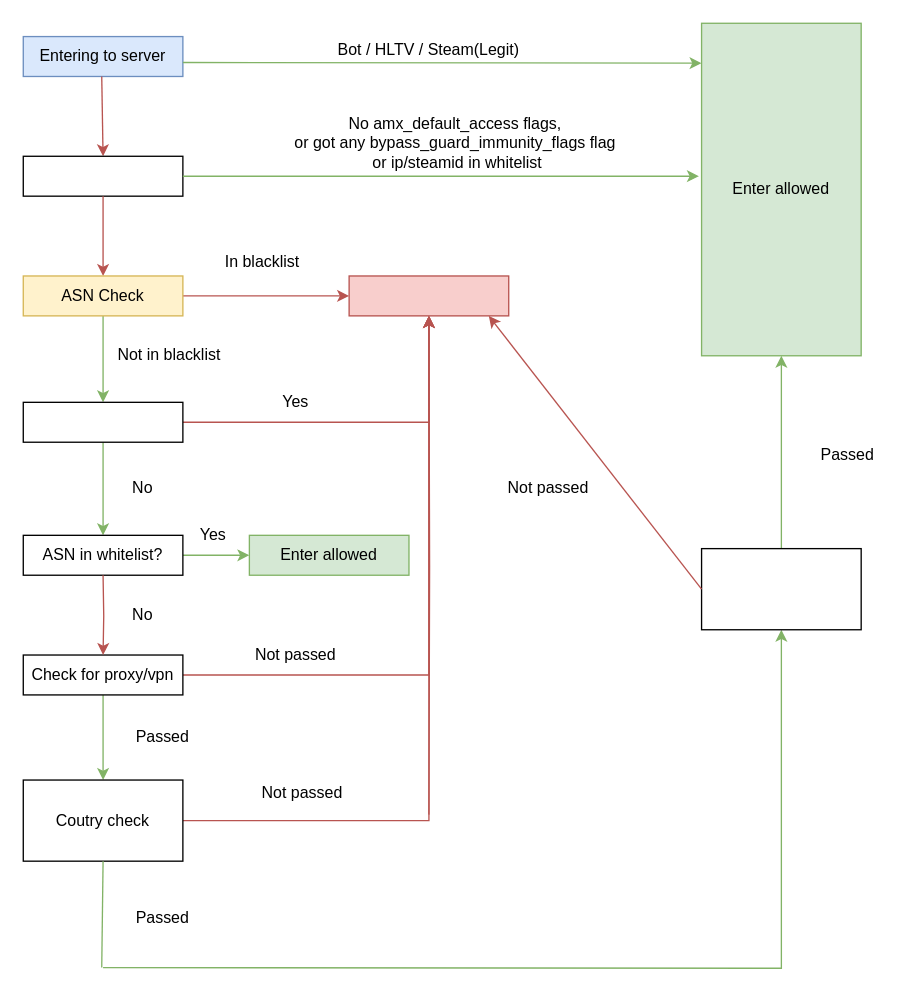
This 924x1003 diagram has some shape labels left out. Each missing label, with the box of its shape:
Delay: (22, 155, 183, 196)
IP in blacklist?: (22, 401, 183, 442)
Kick: (348, 275, 509, 316)
Supervisor check: (700, 547, 861, 630)
